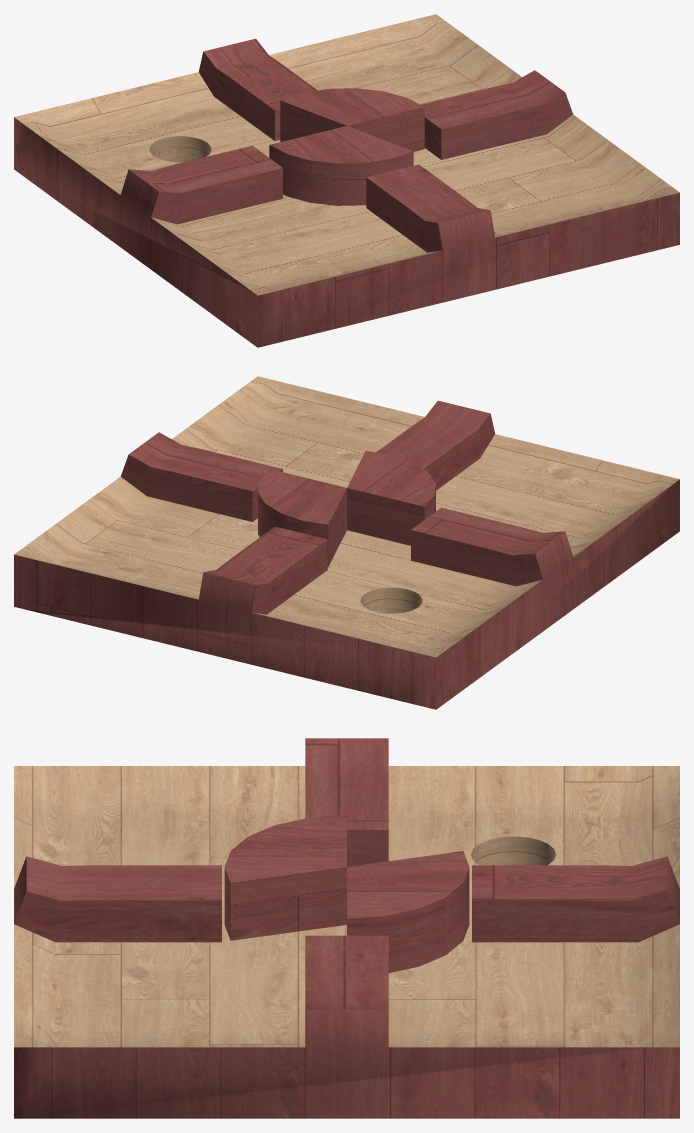
File: Plate 4.fbx
3 renders of one model, top to bottom at view 1: azimuth 30°, elevation 25°; view 2: azimuth 150°, elevation 25°; view 3: azimuth 270°, elevation 25°, orthographic. The views are drawn at different scales.
Visible parts, largest first — view 1: polySurface1, pCylinder1; view 2: polySurface1, pCylinder1; view 3: polySurface1, pCylinder1.
Part boxes in pixels (x1,y1,x2,y2): polySurface1: (14, 14, 679, 347); pCylinder1: (269, 88, 424, 205); polySurface1: (14, 376, 679, 709); pCylinder1: (258, 451, 435, 566); polySurface1: (14, 738, 679, 1118); pCylinder1: (224, 815, 469, 972).
Size of the model in its own units: 34.58 by 6.35 by 34.58.
1 material, 1 textured.
